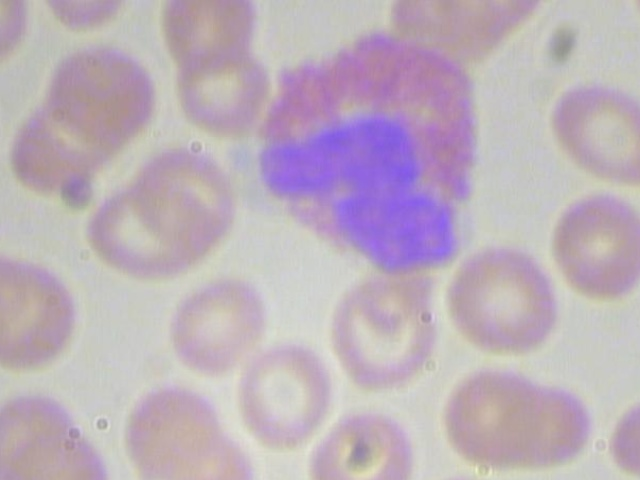RBC: (326, 264, 446, 399), (432, 240, 560, 354), (122, 139, 250, 251), (32, 34, 159, 146), (526, 182, 640, 296), (165, 266, 265, 381), (235, 333, 335, 448), (541, 72, 640, 187), (0, 254, 100, 366), (146, 0, 273, 75)
WBC: (240, 22, 487, 276)
